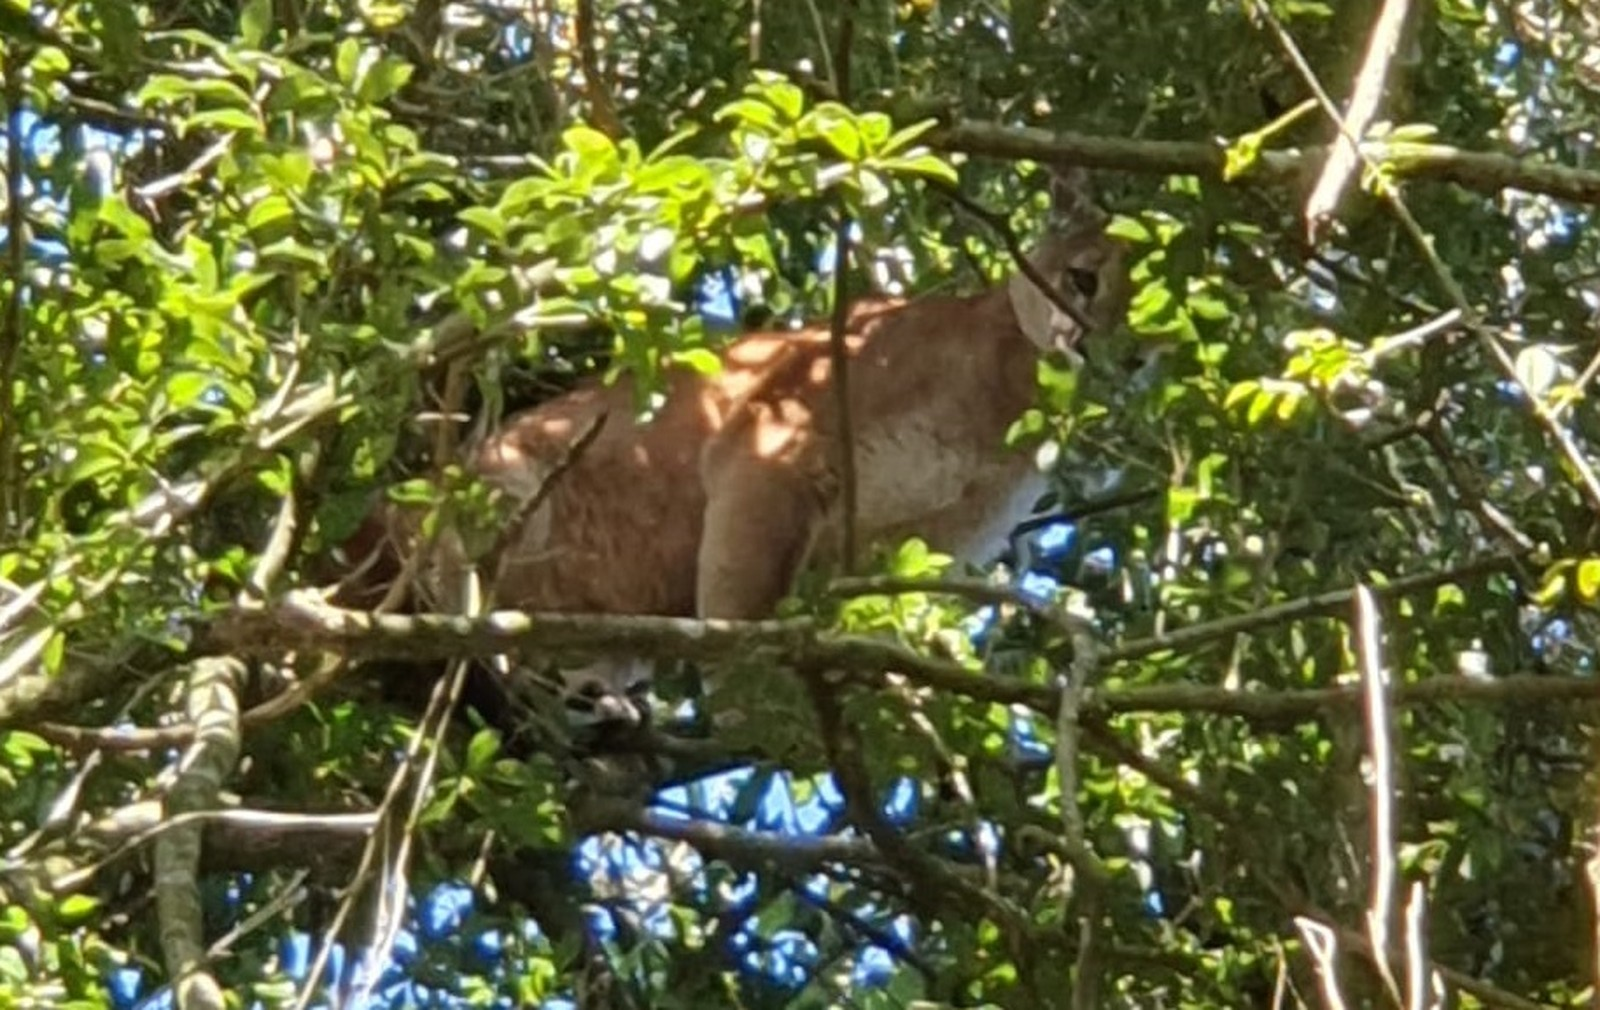OncaParda: (350, 172, 1185, 635)
